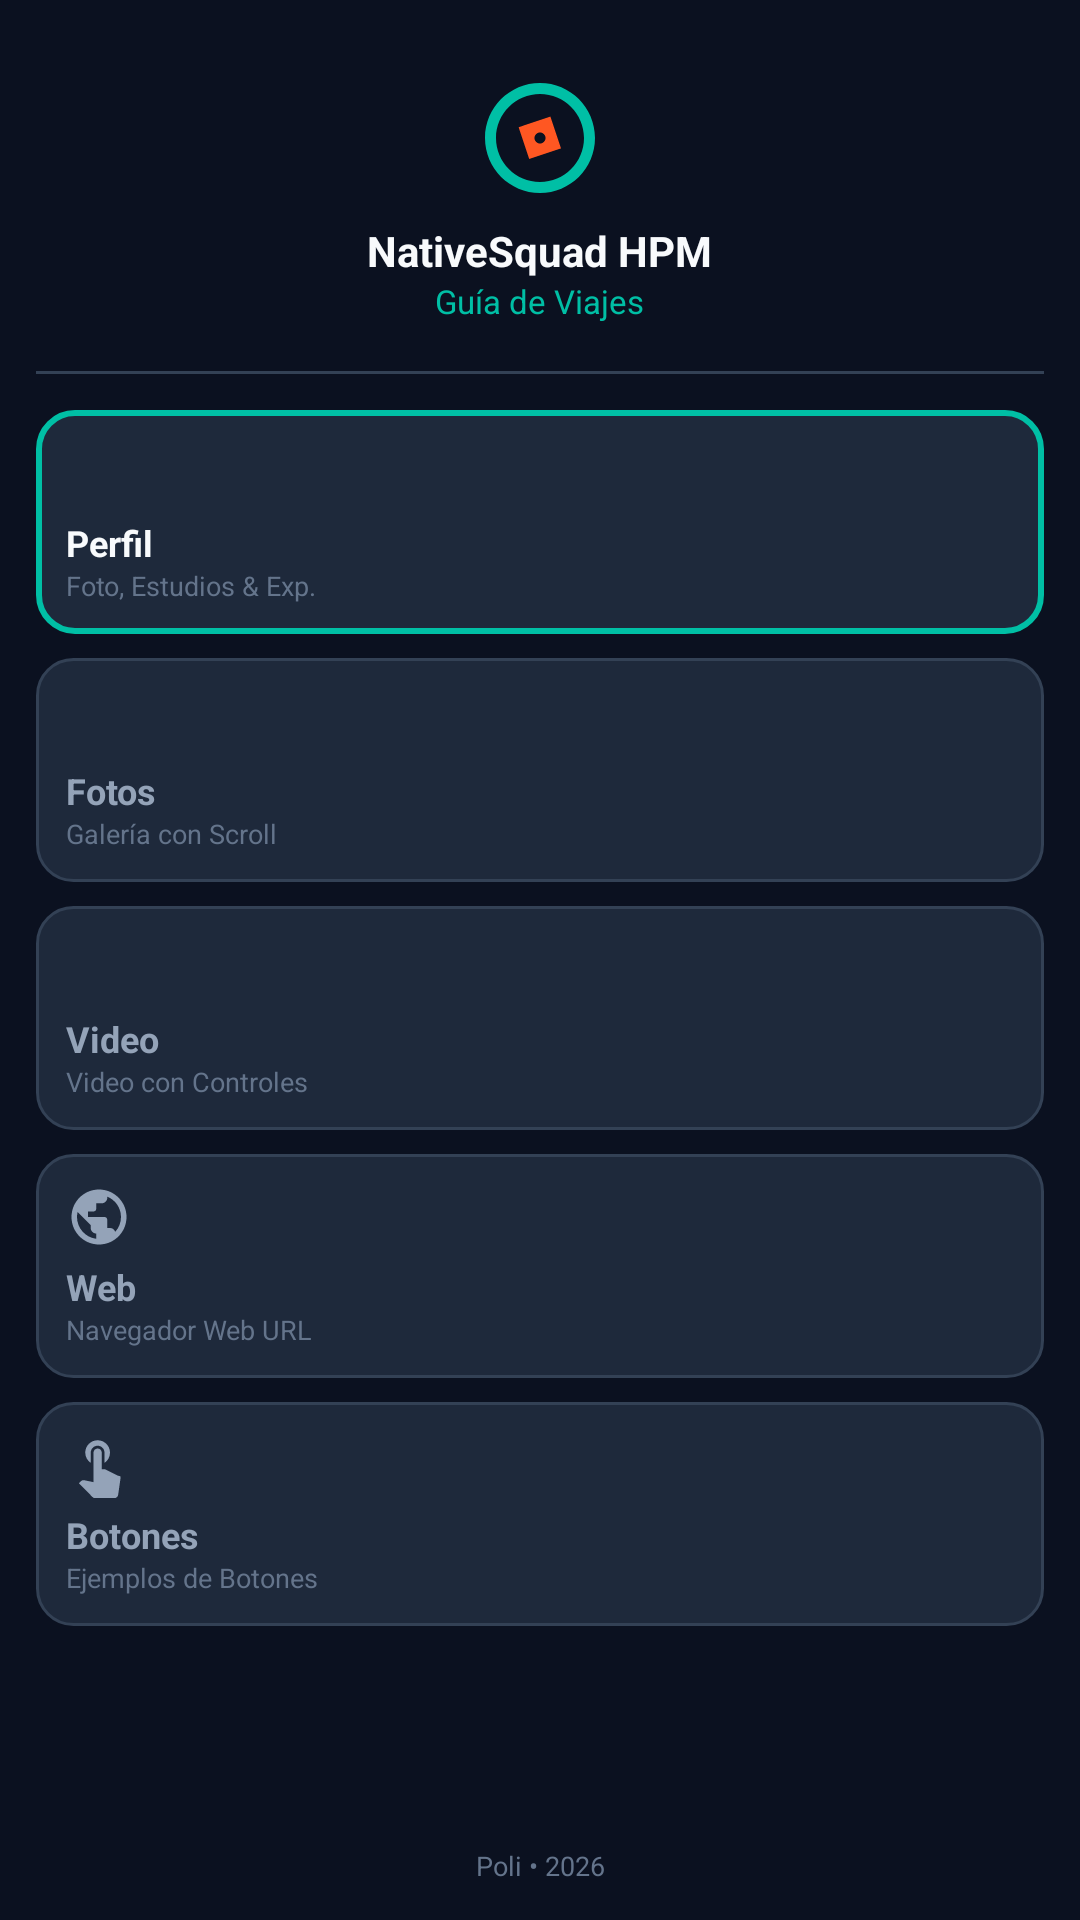

Point at icon controls on the screen. Image size 1080 × 1920, points as [x,y].
acciones: [100,1469]
